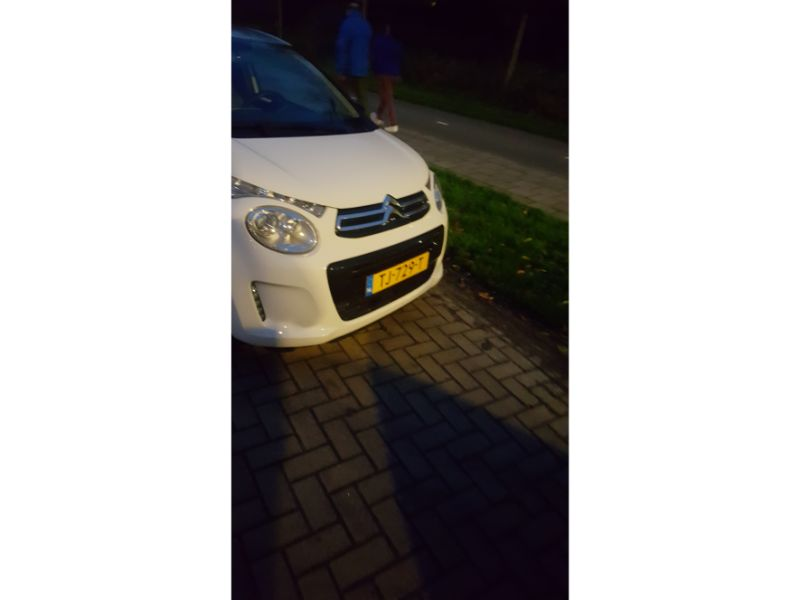kenteken: (366, 245, 433, 295)
